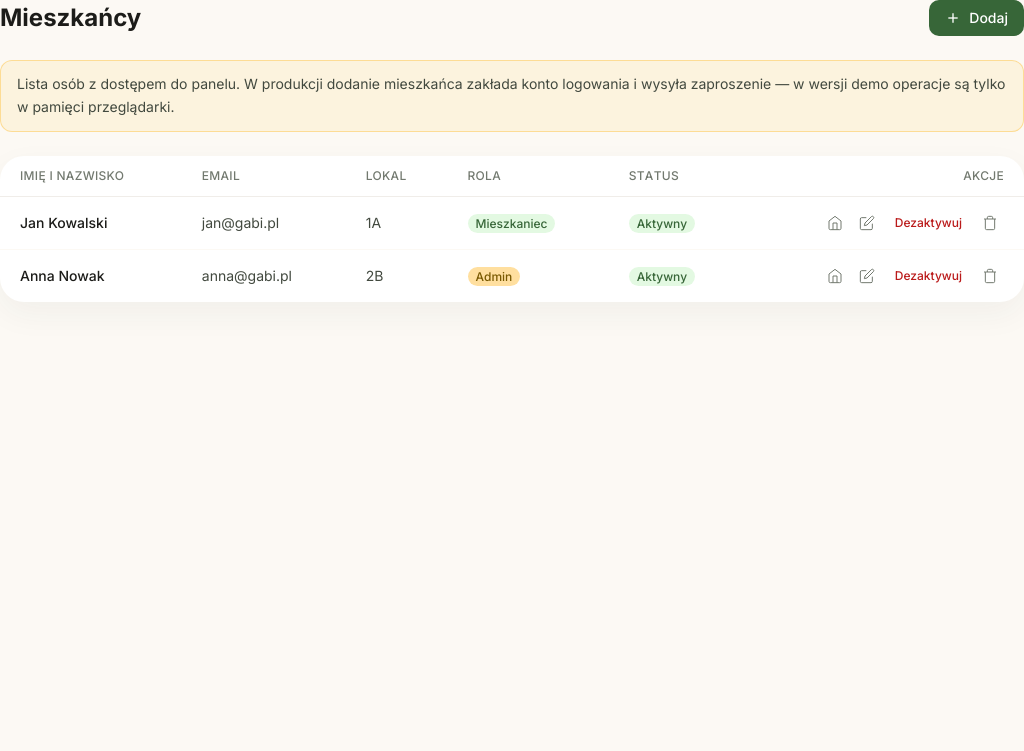
Scenario: ResidentsPage › waliduje wymagane pola przy zapisie
The image size is (1024, 751).
Expected: the text "Jan Kowalski" is shown, [0, 196, 182, 249]
Click the button "Dodaj": x=977, y=18 [929, 0, 1023, 36]
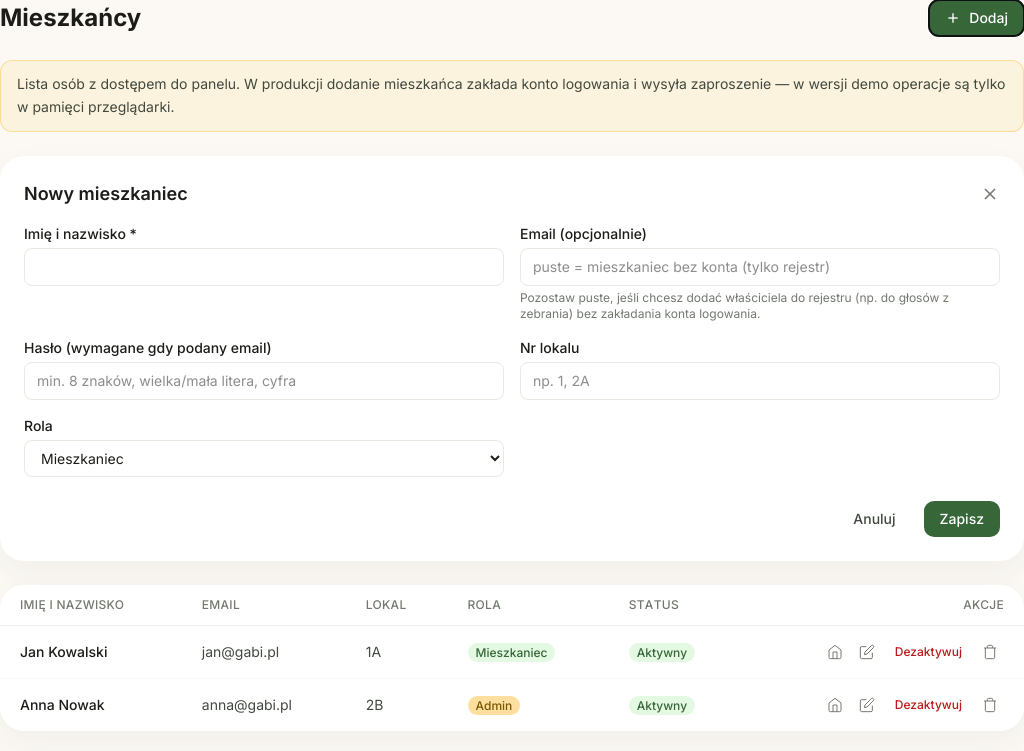
Click the button "Zapisz": x=962, y=518 [924, 500, 1000, 536]
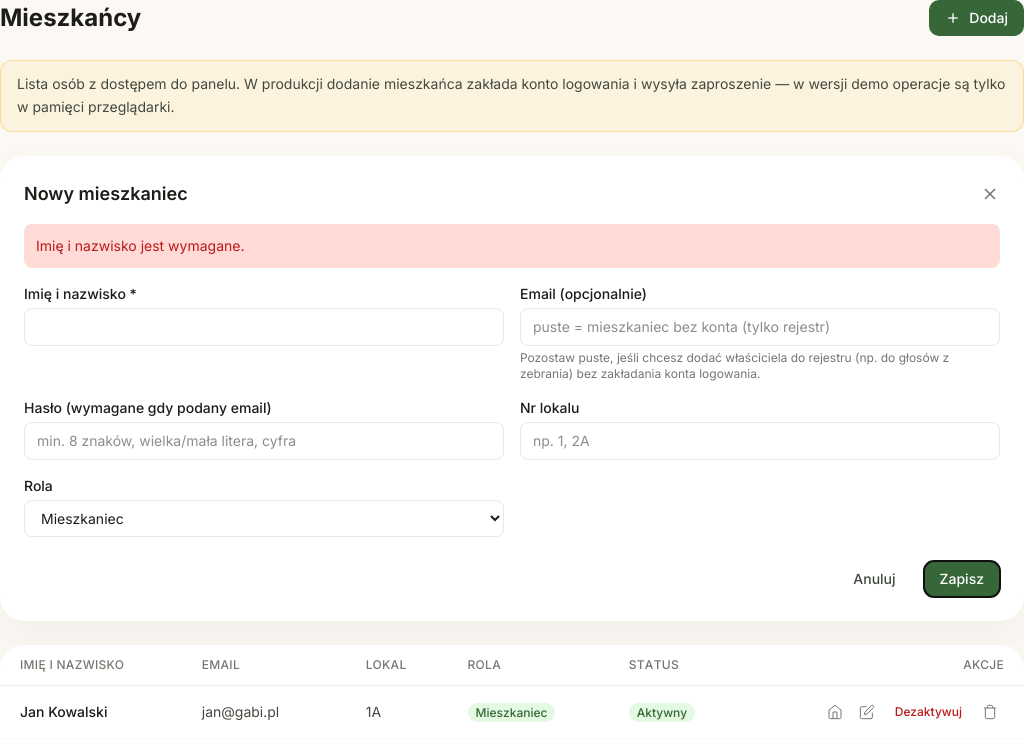
Now the text "Imię i nazwisko jest wymagane." is shown, box [24, 224, 1000, 268]
